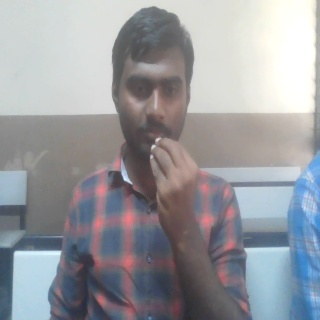Food: (146, 134, 202, 245)
